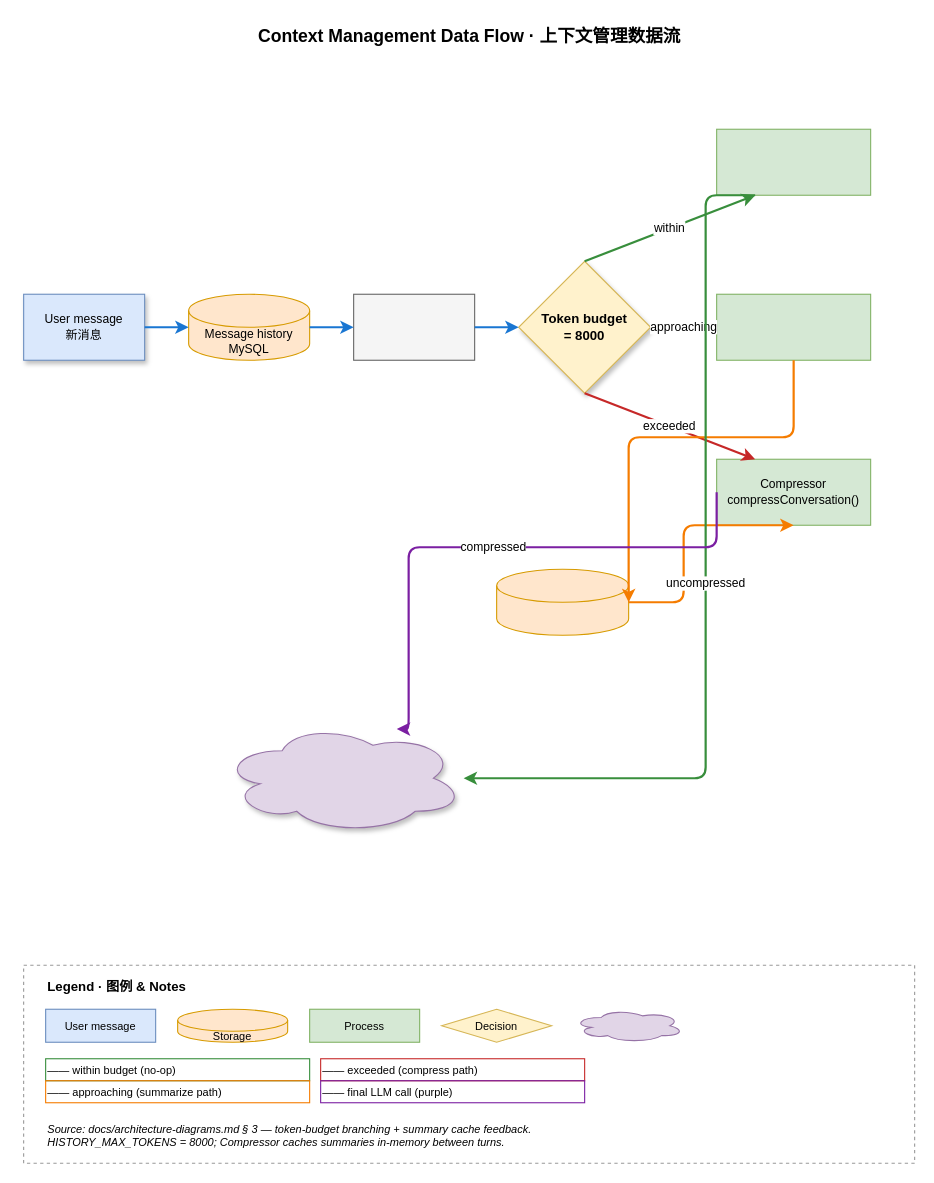
Image size: 934x1183. Some labels were removed from this diagram. Each missing label, with the centre of its shape:
"AI / LLM" belongs at point 628,1025.
"Keep all messages" belongs at point 793,161.
"LLM call compressed context" belongs at point 343,779.
"Summarize old msgs" belongs at point 793,326.
"Summary cache in-memory" belongs at point 562,601.
"Token counter current usage" belongs at point 414,326.
